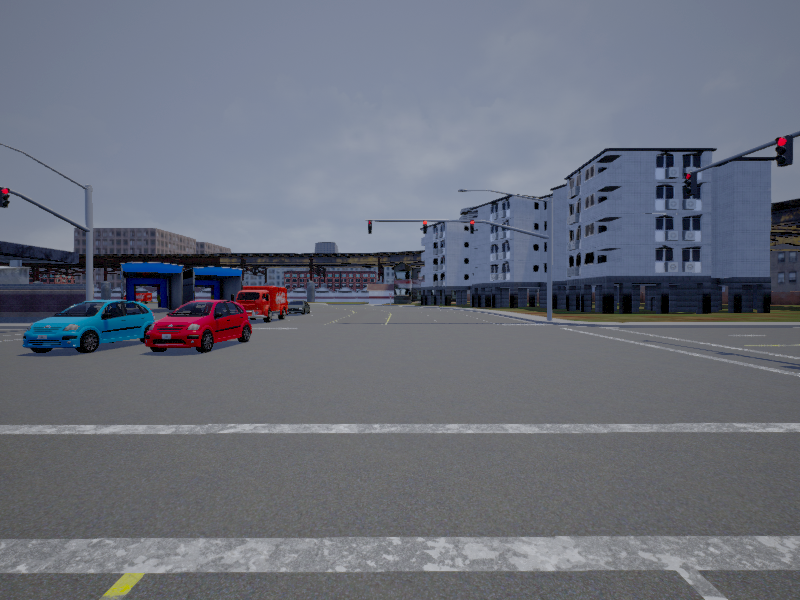Benign: (18, 299, 158, 353), (146, 299, 250, 352), (232, 287, 290, 323), (287, 301, 311, 315)
